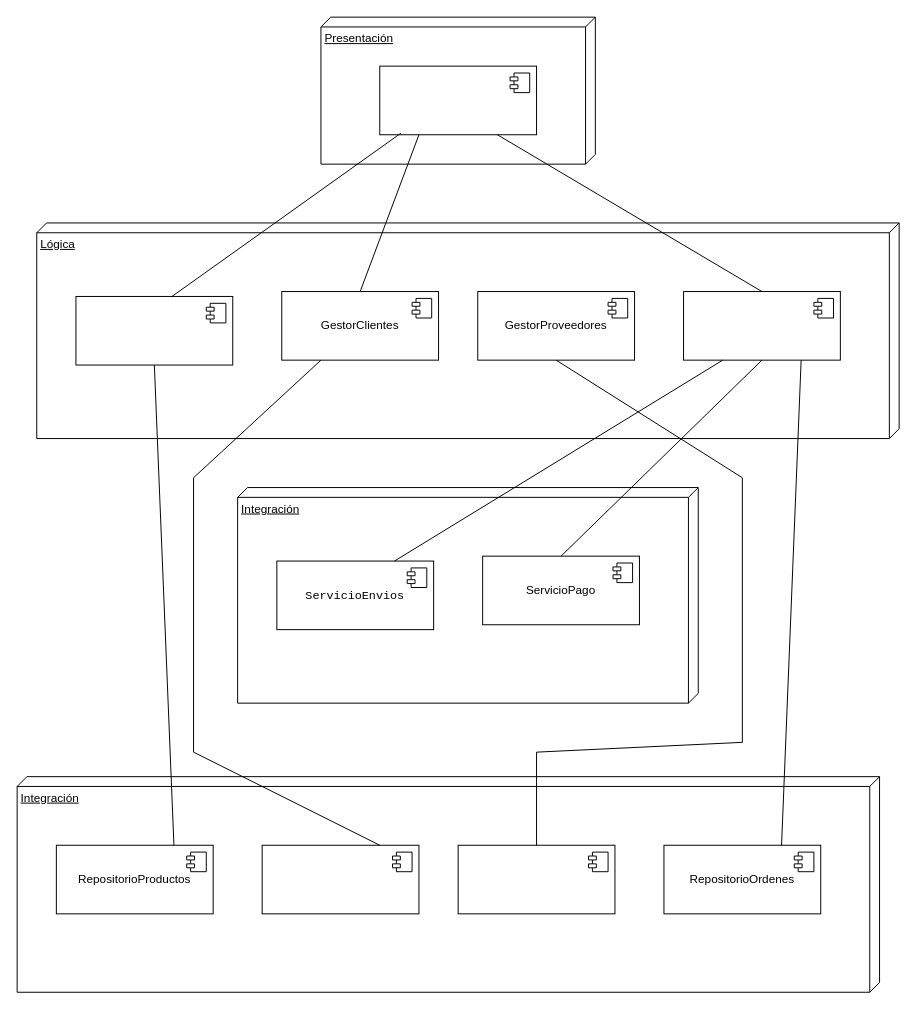
Some shapes in this 916 by 1009 pixel diagram are drawn without their labels. The centre of each missing label's shape, as x and y in pixels:
"GestorOrdenes" belongs at point (761, 325).
"GestorProductos" belongs at point (154, 330).
"RepositorioClientes" belongs at point (340, 879).
"RepositorioProveedores" belongs at point (536, 879).
"Sitio Web" belongs at point (458, 100).
